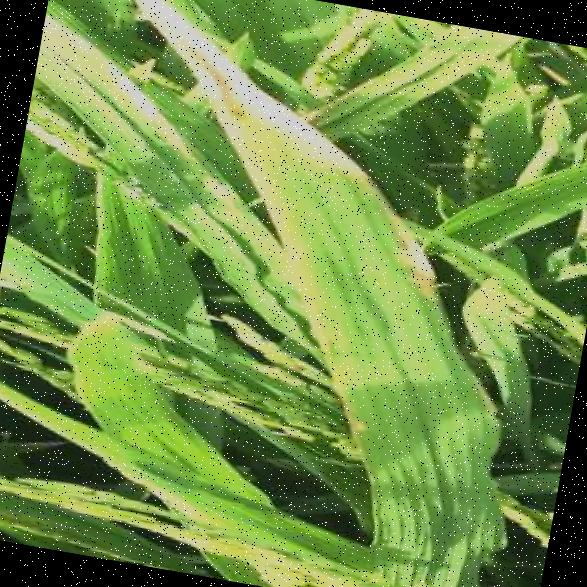Bacteria_Leaf_Blight: (213, 108, 448, 442)
